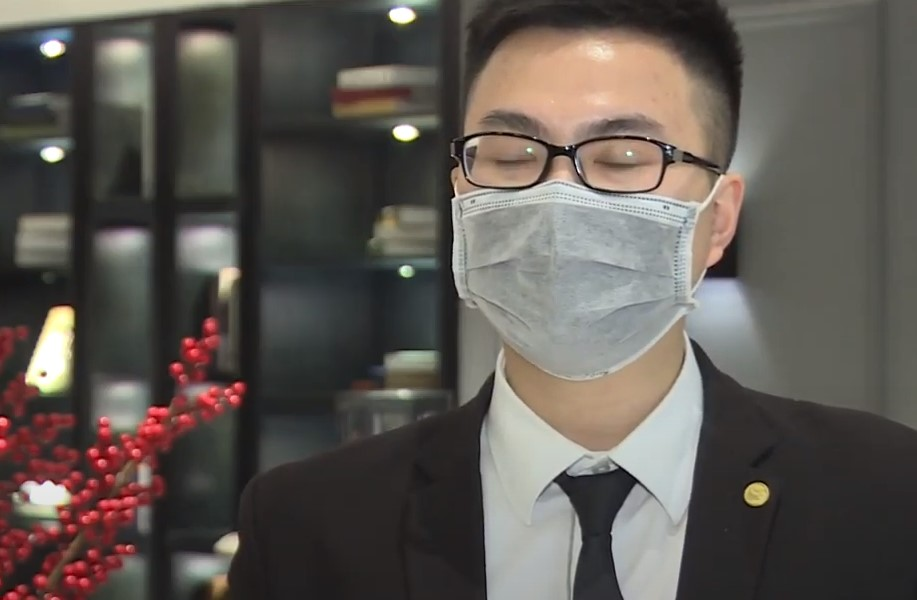face_with_mask: (445, 4, 746, 385)
